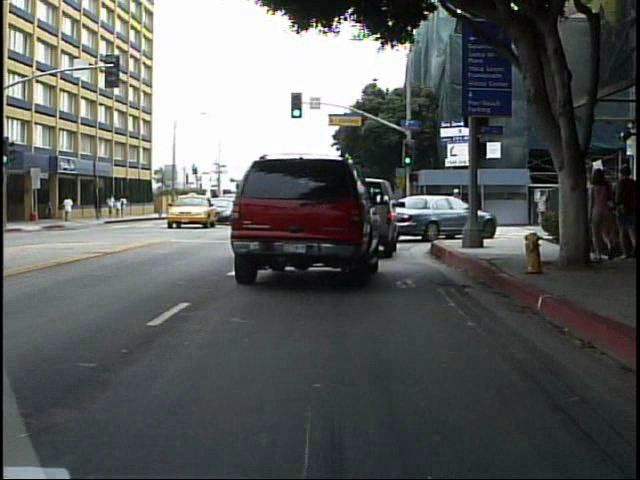person: (588, 169, 619, 267), (616, 166, 638, 263), (448, 185, 466, 229), (62, 193, 76, 226)
